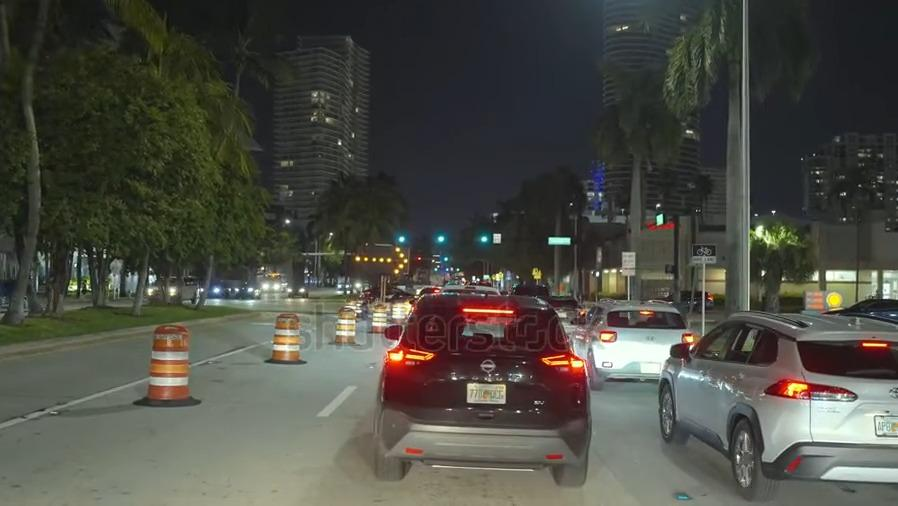arrow traffic sign: (347, 243, 413, 279), (429, 229, 451, 250), (393, 229, 411, 249)
car: (665, 311, 898, 499), (376, 296, 589, 487), (574, 297, 683, 385), (831, 291, 898, 325), (657, 283, 712, 315), (145, 272, 199, 304), (548, 292, 583, 331), (357, 283, 415, 304), (2, 275, 31, 316), (203, 279, 235, 299), (239, 281, 257, 302), (265, 277, 285, 292), (287, 284, 307, 299)
cone: (145, 322, 191, 404), (271, 308, 303, 363), (333, 301, 355, 346), (367, 299, 387, 334), (388, 291, 406, 326)
traffic light: (475, 227, 493, 254)
wheel: (724, 411, 766, 498), (653, 378, 680, 443)
